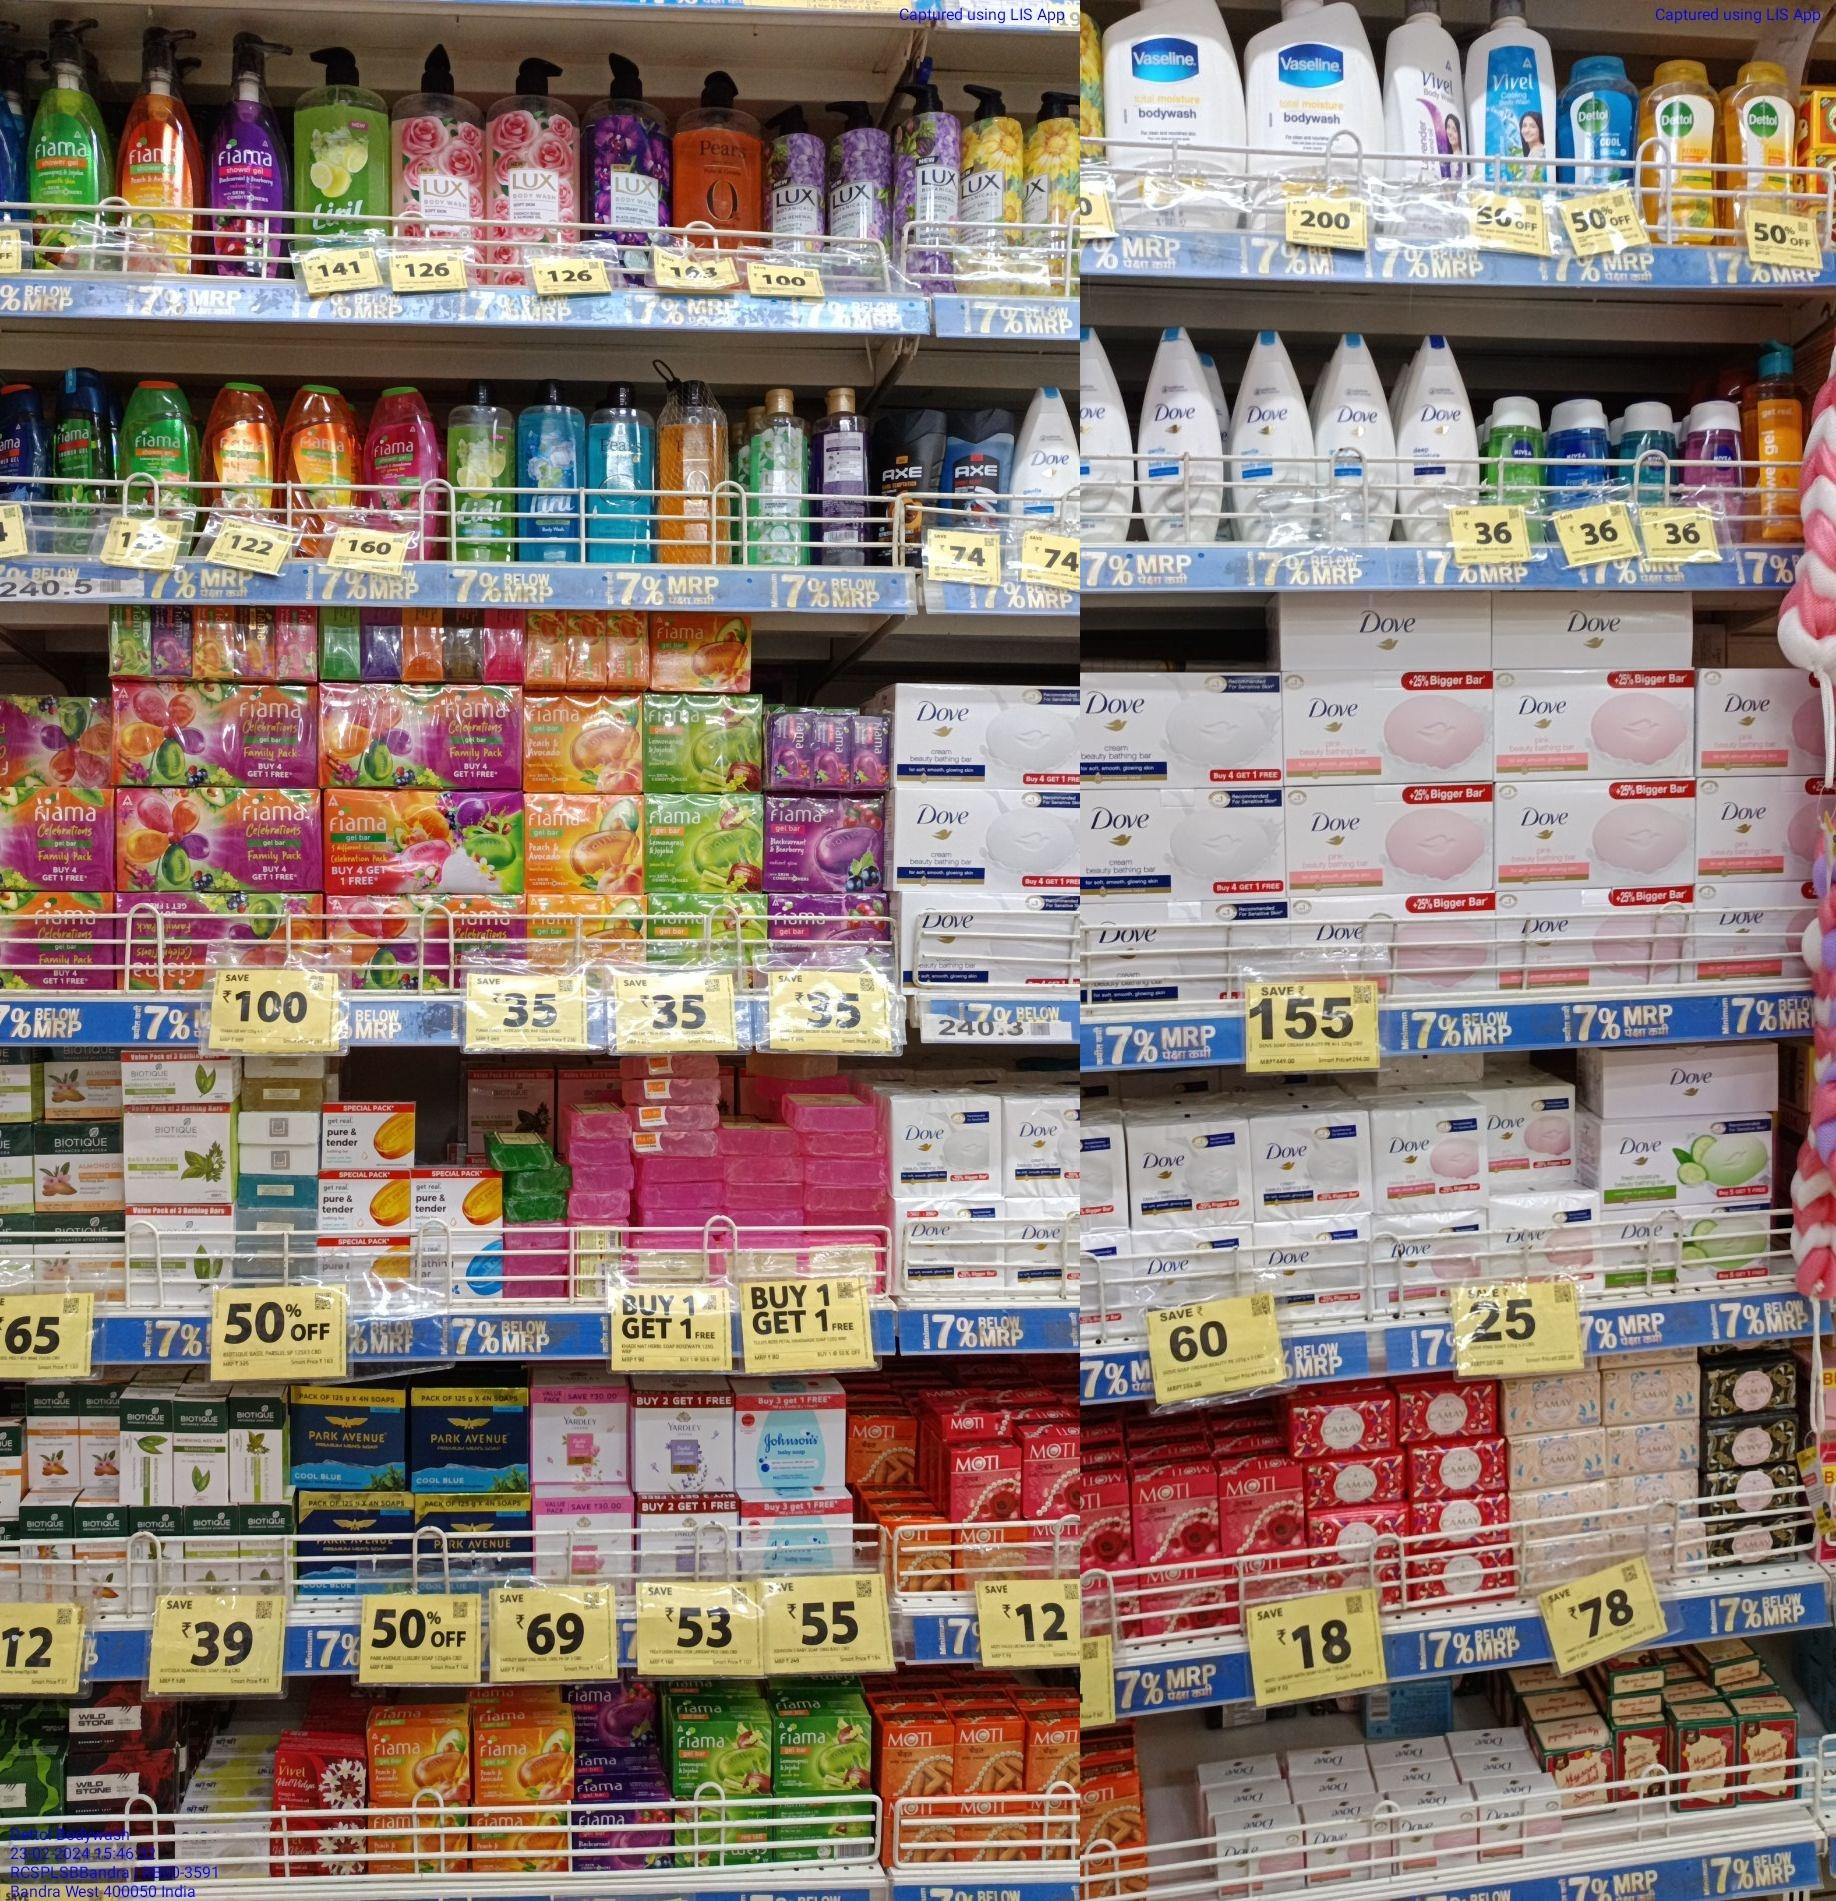Dove_Deep_Moisture_Body_Wash_250ML: (1397, 333, 1476, 513)
Dove_Gentle_Exfoliating_Body_Wash_250ML: (1137, 326, 1222, 541), (1230, 334, 1312, 541), (1315, 336, 1395, 540)
Liril_Cooling_Mint_Body_Wash_250ML: (518, 380, 584, 562)
Liril_Lime_and_Tea_Tree_Oil_Body_Wash_250ML: (448, 387, 516, 562)
Lux_Body_Wash_Skin_Detox_Freesia_Scent_and_Alove_Vera_245ML: (752, 392, 811, 567)
Pears_Pure_Glycerin_and_Mint_Extracts_Body_Wash_250ML: (587, 387, 652, 562)
